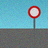sign: (28, 6, 40, 36)
